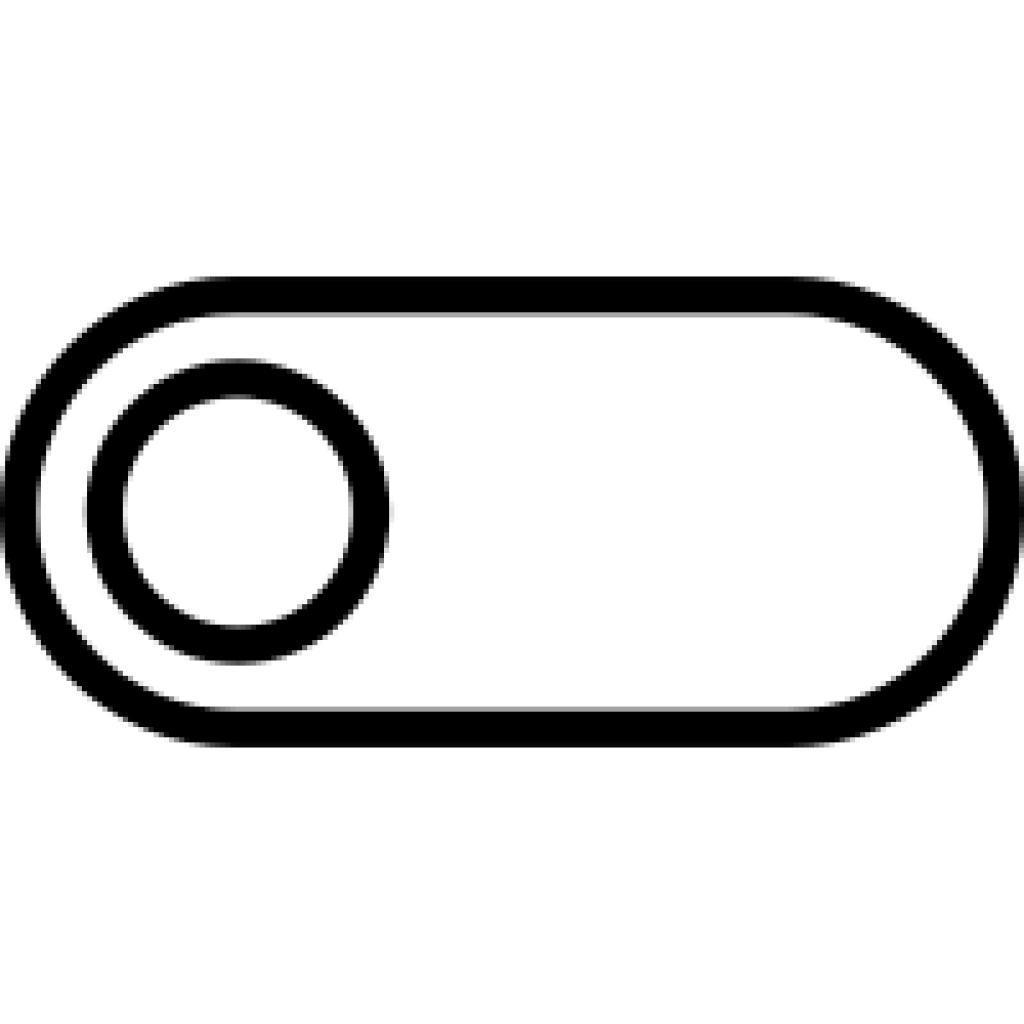switch: (2, 275, 1024, 750)
